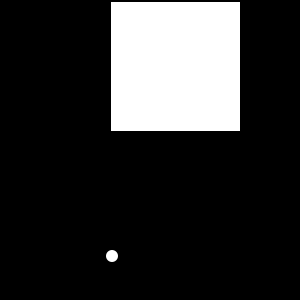circle: (111, 2, 240, 131)
rectangle: (106, 250, 118, 262)
